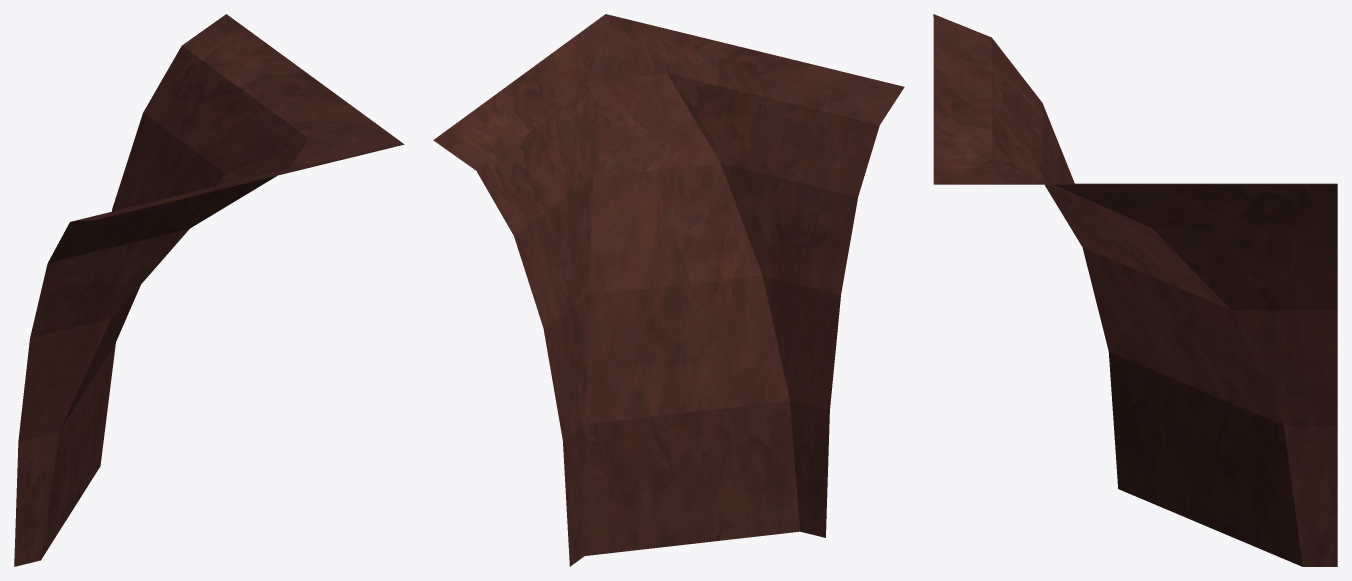
The model's file is lava_base_convex_02.fbx.
3 views of the same model, side by side, from view 1: azimuth 30°, elevation 25°; view 2: azimuth 150°, elevation 25°; view 3: azimuth 270°, elevation 25° (orthographic). The views are drawn at different scales.
Parts seen in each view (by area): view 1: obj0.140; view 2: obj0.140; view 3: obj0.140.
Boxes of the visible parts, x1,y1,x2,y2 form: obj0.140: (14, 14, 404, 566); obj0.140: (433, 14, 904, 566); obj0.140: (933, 14, 1337, 566).
Bounding box in the file's own units: 4.38 × 5.5 × 4.38.
